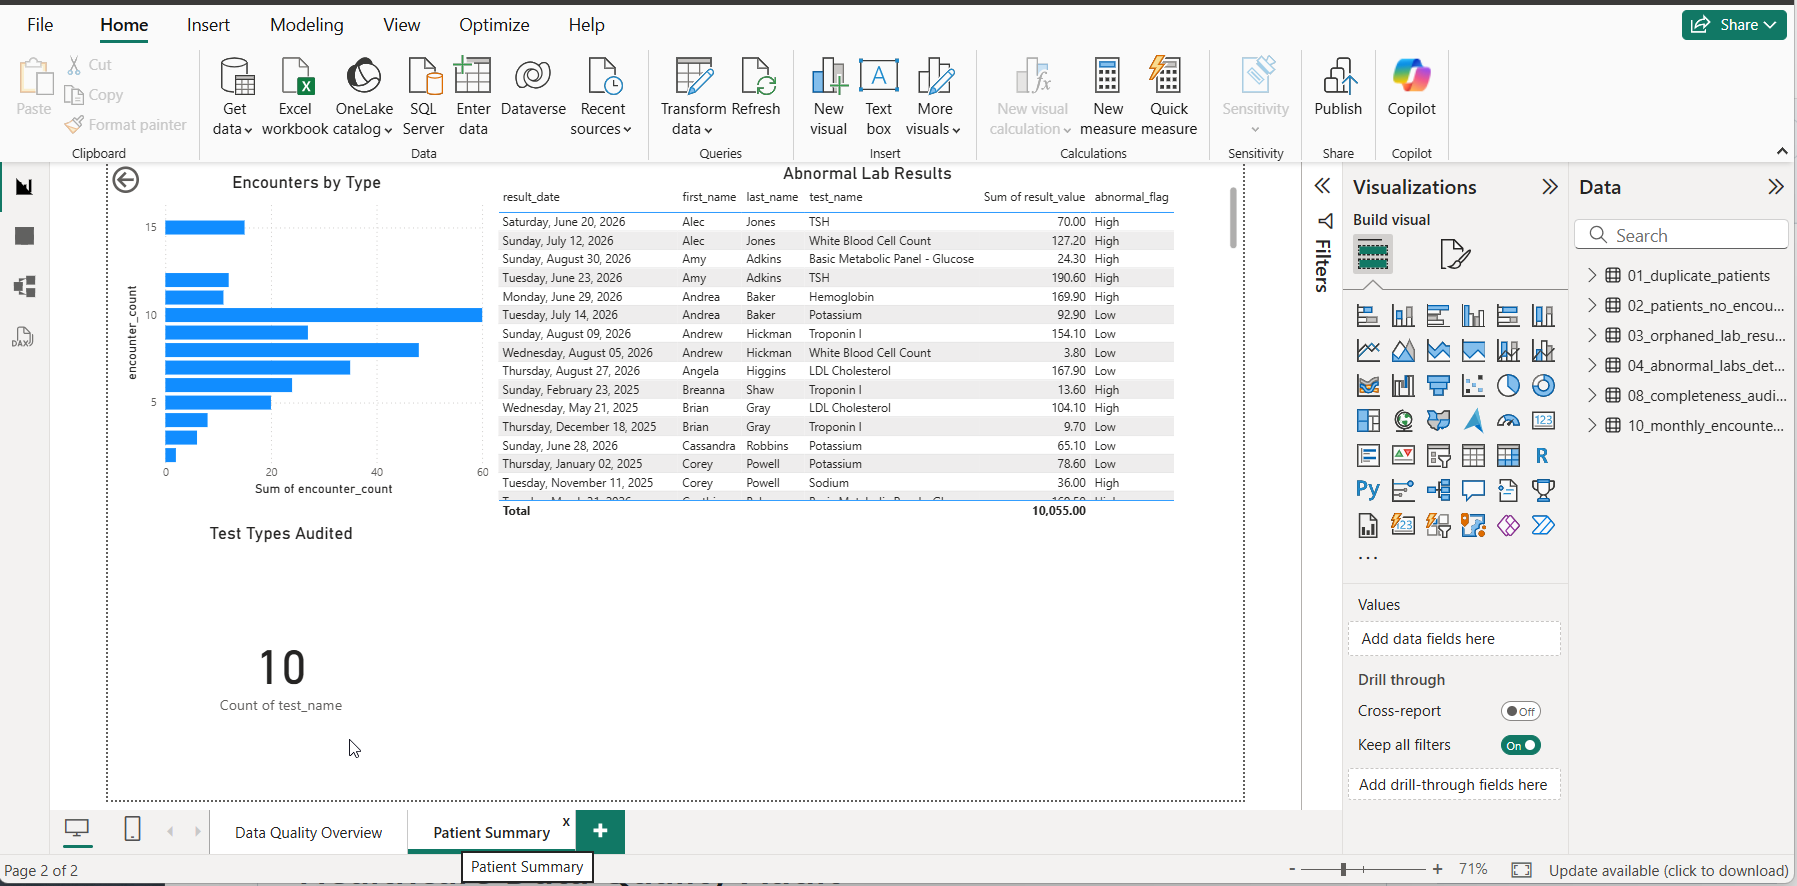

This screenshot's page, from the dashboard's own definition file:
{"tool":"powerbi","page":{"name":"Patient Summary","canvas":[1280,720],"ordinal":1},"visuals":[{"type":"clusteredBarChart","title":"Encounters by Type","fields":{"Category":["10_monthly_encounter_trend.encounter_count"],"Y":["Sum(10_monthly_encounter_trend.encounter_count)"]},"box":[14.1,11.3,420.4,371],"z":0},{"type":"tableEx","title":"Abnormal Lab Results","fields":{"Values":["04_abnormal_labs_detail.result_date","04_abnormal_labs_detail.first_name","04_abnormal_labs_detail.last_name","04_abnormal_labs_detail.test_name","Sum(04_abnormal_labs_detail.result_value)","04_abnormal_labs_detail.abnormal_flag"]},"box":[434.5,1.4,845,406.3],"z":1000},{"type":"card","title":"Test Types Audited","fields":{"Values":["CountNonNull(08_completeness_audit_by_test.test_name)"]},"box":[0,407.7,390.8,311.8],"z":2000},{"type":"actionButton","box":[0,0,100,40],"z":3000}]}

Visuals, with their boxes on the page's 1280x720 design canvas (x1, y1, x2, y2). These are canvas units, not pixel positions in the 1797x886 screenshot, which may show the page scaled, cropped or inside an application window:
"Encounters by Type" clusteredBarChart: 14:11:434:382
"Abnormal Lab Results" tableEx: 434:1:1280:408
"Test Types Audited" card: 0:408:391:720
actionButton: 0:0:100:40
